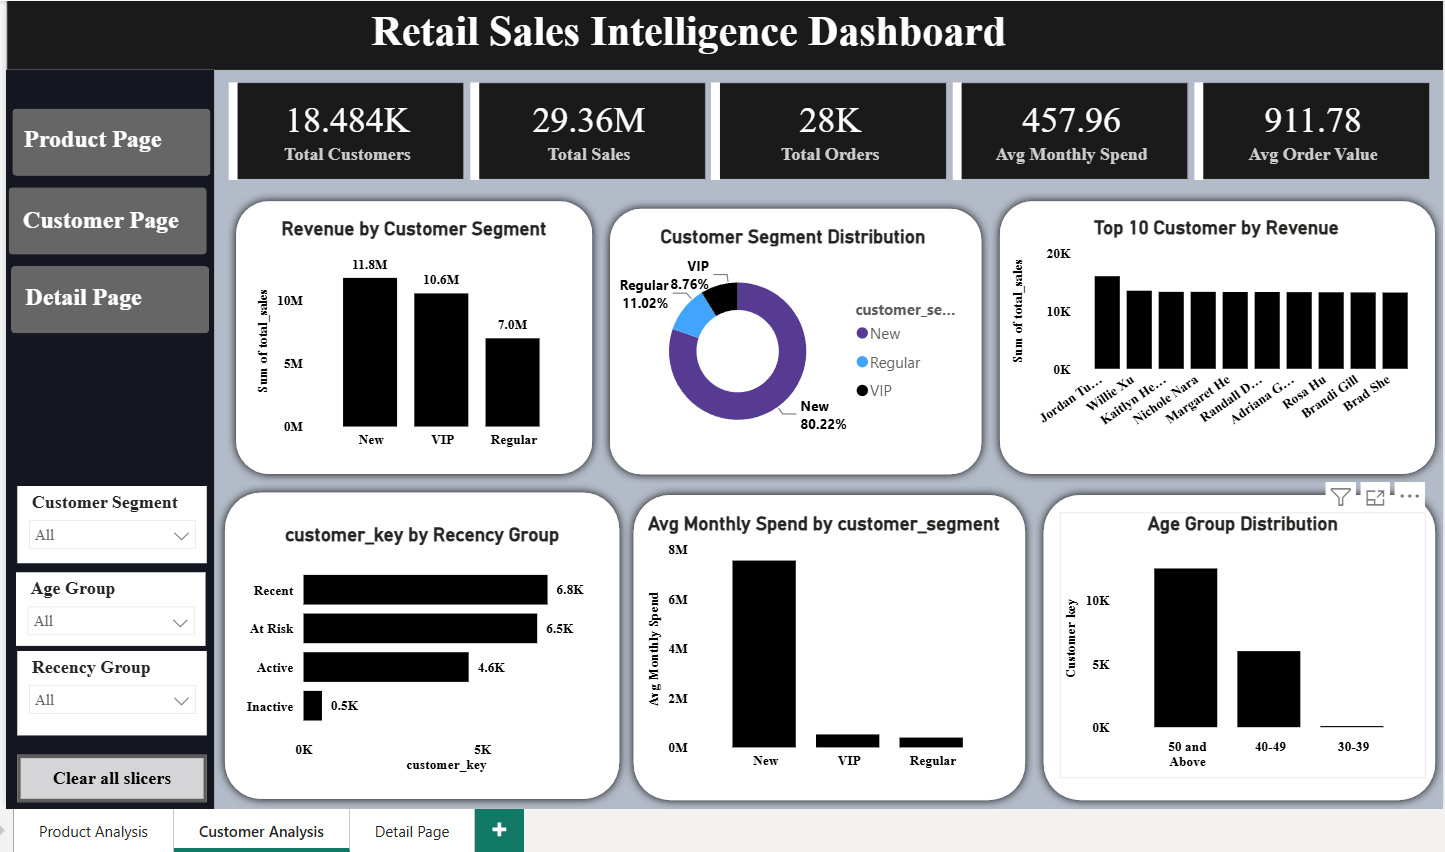

This screenshot's page, from the dashboard's own definition file:
{"tool":"powerbi","page":{"name":"Customer Analysis","canvas":[1280,720],"ordinal":1},"visuals":[{"type":"shape","box":[551.2,432.3,364.5,287.8],"z":0},{"type":"shape","box":[1.3,0,1279,61.4],"z":1000},{"type":"shape","box":[877,170.9,403.3,258.8],"z":2000},{"type":"shape","box":[530.2,177.2,346.8,252.5],"z":3000},{"type":"shape","box":[186.7,429.7,367.1,289],"z":4000},{"type":"shape","box":[197.3,170.9,332.9,258.8],"z":5000},{"type":"cardVisual","fields":{"Data":["Count(customer_report.customer_key)","Sum(customer_report.total_sales)","Sum(customer_report.total_orders)","Avg(customer_report.avg_monthly_spend)","Avg(customer_report.avg_order_value)"]},"box":[187,61.5,1093,109.8],"z":6000},{"type":"donutChart","title":"Customer Segment Distribution","fields":{"Category":["customer_report.customer_segment"],"Y":["Count(customer_report.customer_key)"]},"box":[541.7,199.1,317.3,206.3],"z":7000},{"type":"columnChart","title":"Top 10 Customer by Revenue","fields":{"Y":["Sum(customer_report.total_sales)"],"Category":["customer_report.customer_name"]},"box":[890.2,191.8,374.7,198.2],"z":8000},{"type":"shape","box":[0,61.4,185.5,658.7],"z":9000},{"type":"slicer","fields":{"Values":["customer_report.customer_segment"]},"box":[10.2,432.3,168.8,69.1],"z":10000},{"type":"slicer","fields":{"Values":["customer_report.age_group"]},"box":[9,509,168.8,65.2],"z":11000},{"type":"slicer","fields":{"Values":["customer_report.Recency Group"]},"box":[10.2,579.4,168.8,75.5],"z":12000},{"type":"actionButton","box":[9.7,670.8,168.9,42.2],"z":13000},{"type":"textbox","box":[262.2,0,690.6,58.8],"z":14000},{"type":"columnChart","title":"Revenue by Customer Segment","fields":{"Category":["customer_report.customer_segment"],"Y":["Sum(customer_report.total_sales)"]},"box":[218.6,192.2,290.2,213.6],"z":15000},{"type":"barChart","fields":{"Category":["customer_report.Recency Group"],"Y":["Count(customer_report.customer_key)"]},"box":[208.5,465.5,324.9,226.4],"z":16000},{"type":"shape","box":[915.8,432.3,364.5,287.8],"z":17000},{"type":"columnChart","title":"Age Group Distribution","fields":{"Category":["customer_report.age_group"],"Y":["Count(customer_report.customer_key)"]},"box":[938.8,455.3,326.1,236.6],"z":18000},{"type":"columnChart","fields":{"Category":["customer_report.customer_segment"],"Y":["Sum(customer_report.avg_monthly_spend)"]},"box":[566.6,455.3,323.6,236.6],"z":19000},{"type":"shape","box":[2.6,166.3,176.5,60.1],"z":20000},{"type":"textbox","box":[10.2,177.8,154.8,48.6],"z":21000},{"type":"shape","box":[5.1,95.9,176.5,60.1],"z":22000},{"type":"textbox","box":[11.5,106.2,154.8,42.2],"z":23000},{"type":"shape","box":[4.8,236.1,176.5,60.1],"z":23001},{"type":"textbox","box":[12.5,247.6,154.8,48.6],"z":23002}]}

Visuals, with their boxes on the page's 1280x720 design canvas (x1, y1, x2, y2). These are canvas units, not pixel positions in the 1445x852 screenshot, which may show the page scaled, cropped or inside an application window:
shape: locate(551, 432, 916, 720)
shape: locate(1, 0, 1280, 61)
shape: locate(877, 171, 1280, 430)
shape: locate(530, 177, 877, 430)
shape: locate(187, 430, 554, 719)
shape: locate(197, 171, 530, 430)
cardVisual - Count(customer_report.customer_key) x Sum(customer_report.total_sales): locate(187, 62, 1280, 171)
"Customer Segment Distribution" donutChart: locate(542, 199, 859, 405)
"Top 10 Customer by Revenue" columnChart: locate(890, 192, 1265, 390)
shape: locate(0, 61, 186, 720)
slicer - customer_report.customer_segment: locate(10, 432, 179, 501)
slicer - customer_report.age_group: locate(9, 509, 178, 574)
slicer - customer_report.Recency Group: locate(10, 579, 179, 655)
actionButton: locate(10, 671, 179, 713)
textbox: locate(262, 0, 953, 59)
"Revenue by Customer Segment" columnChart: locate(219, 192, 509, 406)
barChart - customer_report.Recency Group x Count(customer_report.customer_key): locate(208, 466, 533, 692)
shape: locate(916, 432, 1280, 720)
"Age Group Distribution" columnChart: locate(939, 455, 1265, 692)
columnChart - customer_report.customer_segment x Sum(customer_report.avg_monthly_spend): locate(567, 455, 890, 692)
shape: locate(3, 166, 179, 226)
textbox: locate(10, 178, 165, 226)
shape: locate(5, 96, 182, 156)
textbox: locate(12, 106, 166, 148)
shape: locate(5, 236, 181, 296)
textbox: locate(12, 248, 167, 296)
